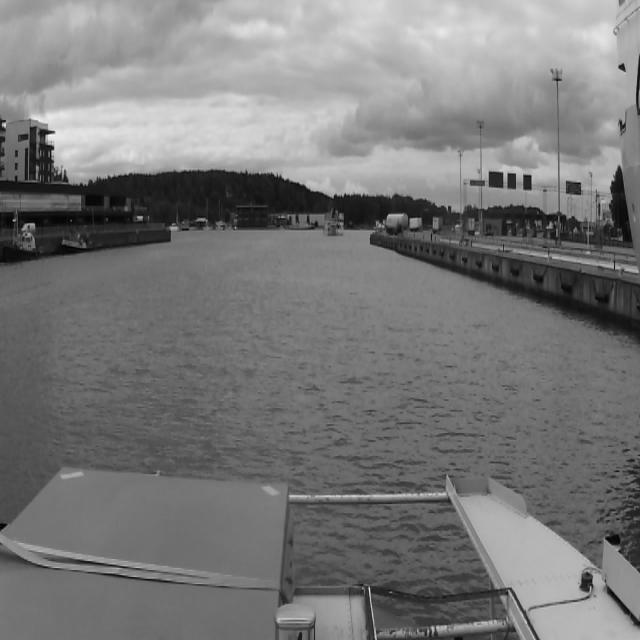ship: (61, 230, 94, 256), (324, 214, 344, 236), (289, 222, 315, 230)
